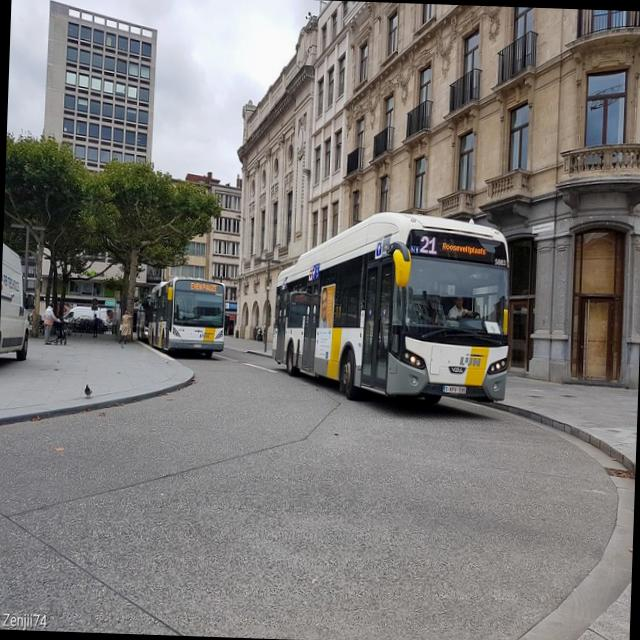bus-number: (418, 233, 437, 256)
